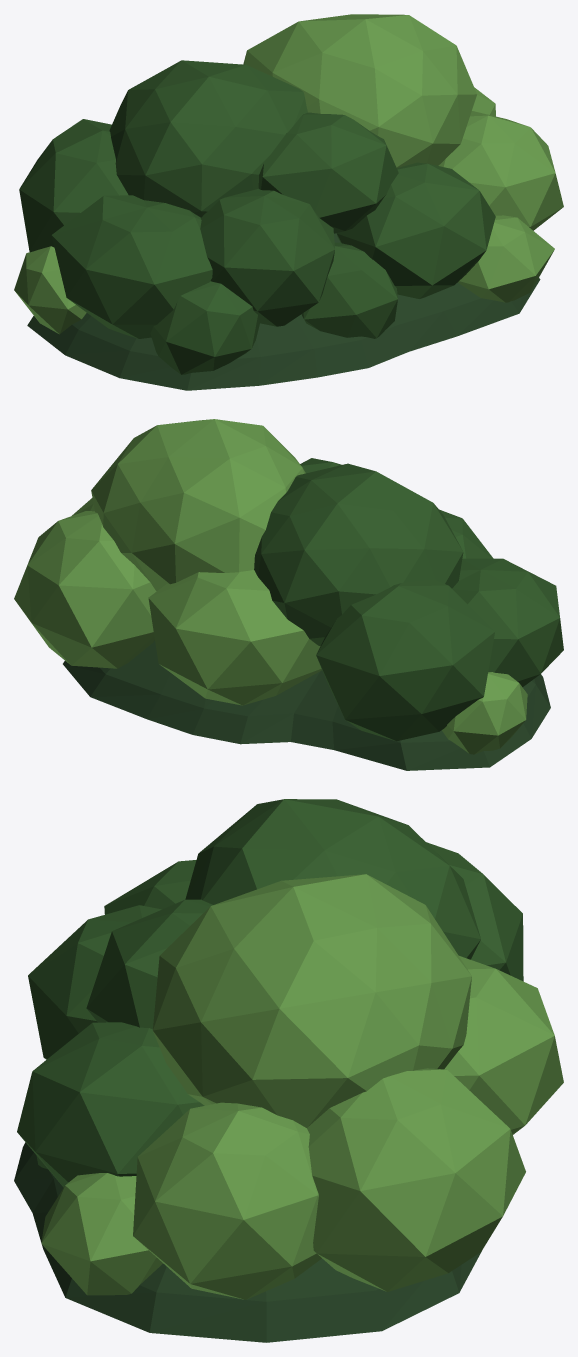
The model's file is round-bush-cd2ac0.glb.
3 renders of one model, top to bottom at view 1: azimuth 30°, elevation 25°; view 2: azimuth 150°, elevation 25°; view 3: azimuth 270°, elevation 25°, orthographic. The views are drawn at different scales.
Parts seen in each view (by area): view 1: round-bush-mesh; view 2: round-bush-mesh; view 3: round-bush-mesh.
Part boxes in pixels (x1,y1,x2,y2): round-bush-mesh: (14,14,563,390); round-bush-mesh: (14,419,563,770); round-bush-mesh: (14,799,563,1342).
Bounding box in the file's own units: 1.27 × 0.6257 × 0.8665.
